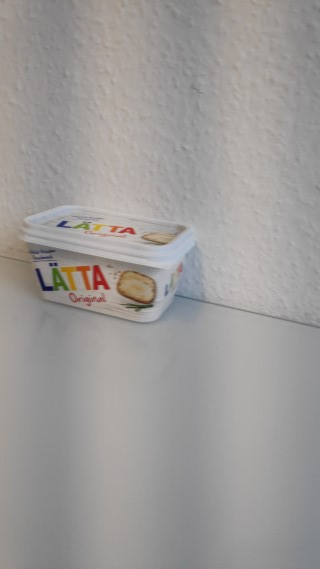laetta: (15, 203, 200, 324)
